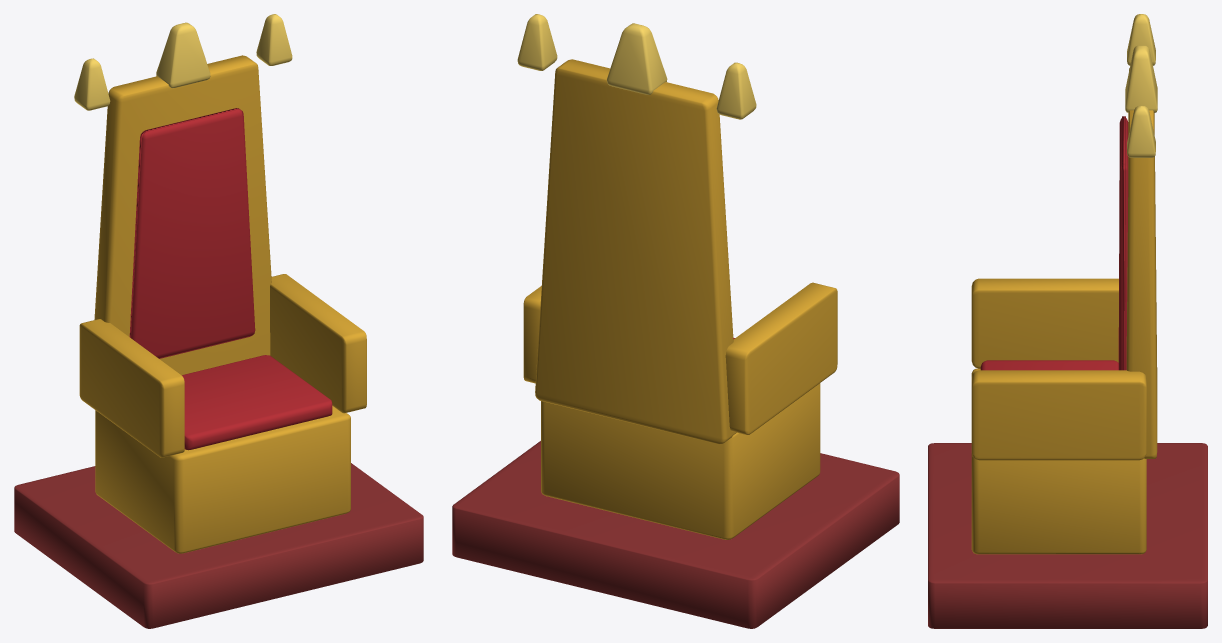
Rendered from throne.glb.
The picture shows the model from 3 angles, left to right: view 1: azimuth 30°, elevation 25°; view 2: azimuth 150°, elevation 25°; view 3: azimuth 270°, elevation 25°; orthographic projection. The views are drawn at different scales.
Visible parts, largest first — view 1: throne; view 2: throne; view 3: throne.
Part boxes in pixels (x1,y1,x2,y2): throne: (14,14,423,628); throne: (452,14,899,628); throne: (928,14,1207,628).
Bounding box in the file's own units: 1.9 × 3.23 × 1.6.
